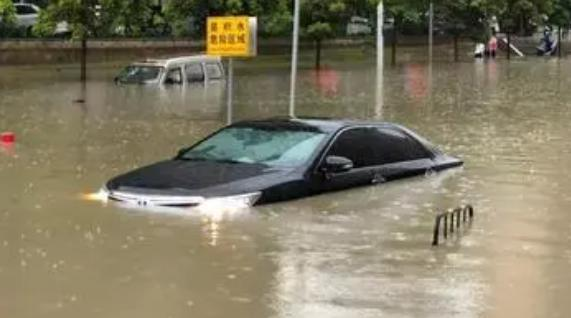water: (0, 41, 570, 316), (233, 55, 290, 123)
